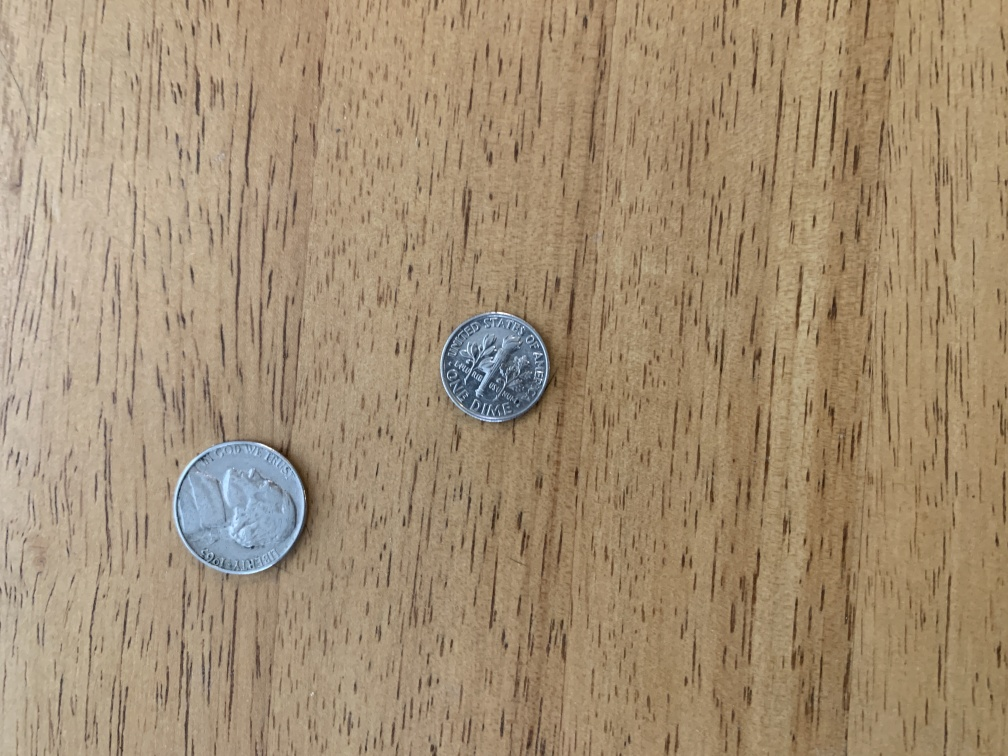dime: (434, 307, 556, 433)
nickel: (170, 435, 313, 587)
